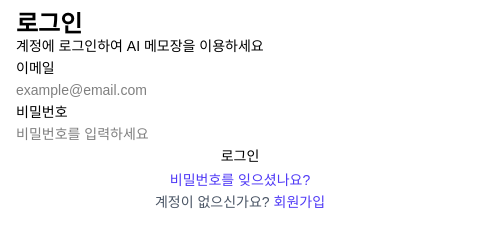
LoginForm › 네트워크 에러를 처리한다
// 유효한 데이터 입력
Type "test@example.com" into the field labelled "이메일" at (240, 90), box [16,80,464,100]
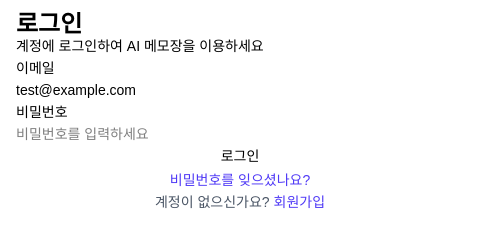
Type "password123" into the password field labelled "비밀번호" at (240, 134), box [16,124,464,144]
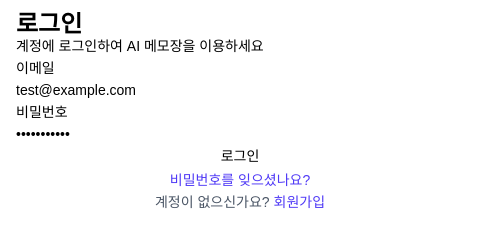
Click the button "로그인" at (240, 156), box [16,146,464,166]
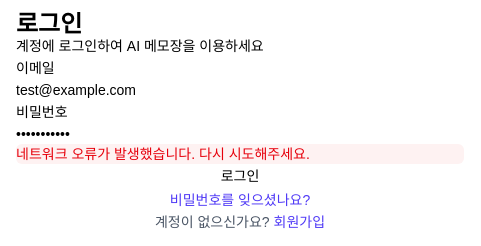
Check: the text "네트워크 오류가 발생했습니다. 다시 시도해주세요." is shown, box [16,146,310,162]
